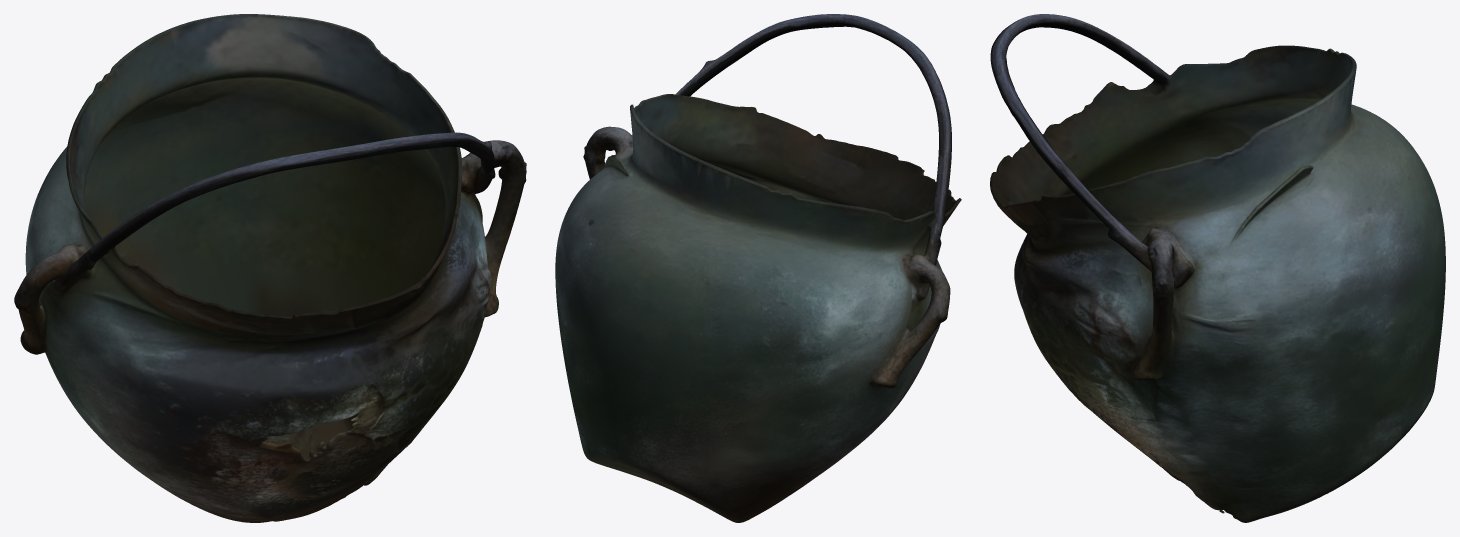
The model's file is 044-metallicheskiy-kotel.glb.
3 views of the same model, side by side, from view 1: azimuth 30°, elevation 25°; view 2: azimuth 150°, elevation 25°; view 3: azimuth 270°, elevation 25° (orthographic). The views are drawn at different scales.
Parts seen in each view (by area): view 1: node_0; view 2: node_0; view 3: node_0.
Part boxes in pixels (x1=…): node_0: x1=14, y1=14, x2=526, y2=522; node_0: x1=555, y1=14, x2=961, y2=522; node_0: x1=990, y1=14, x2=1445, y2=522.
Bounding box in the file's own units: 0.9001 × 0.8843 × 0.8314.
1 material, 1 textured.
